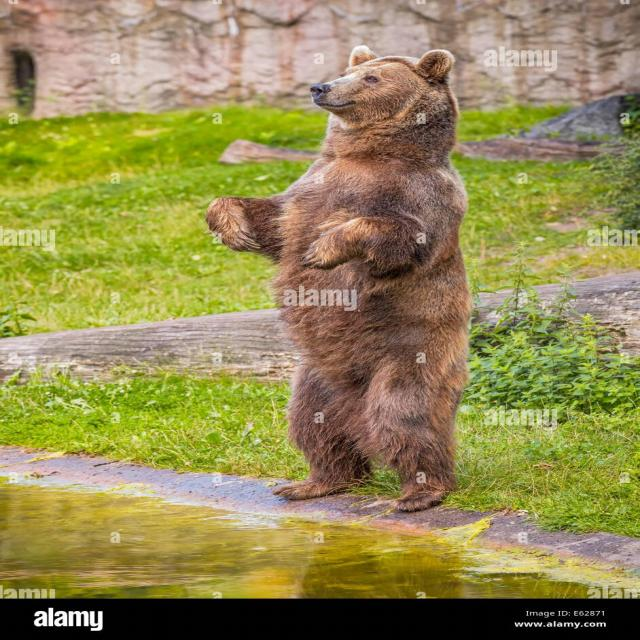Bear: (205, 48, 472, 515)
